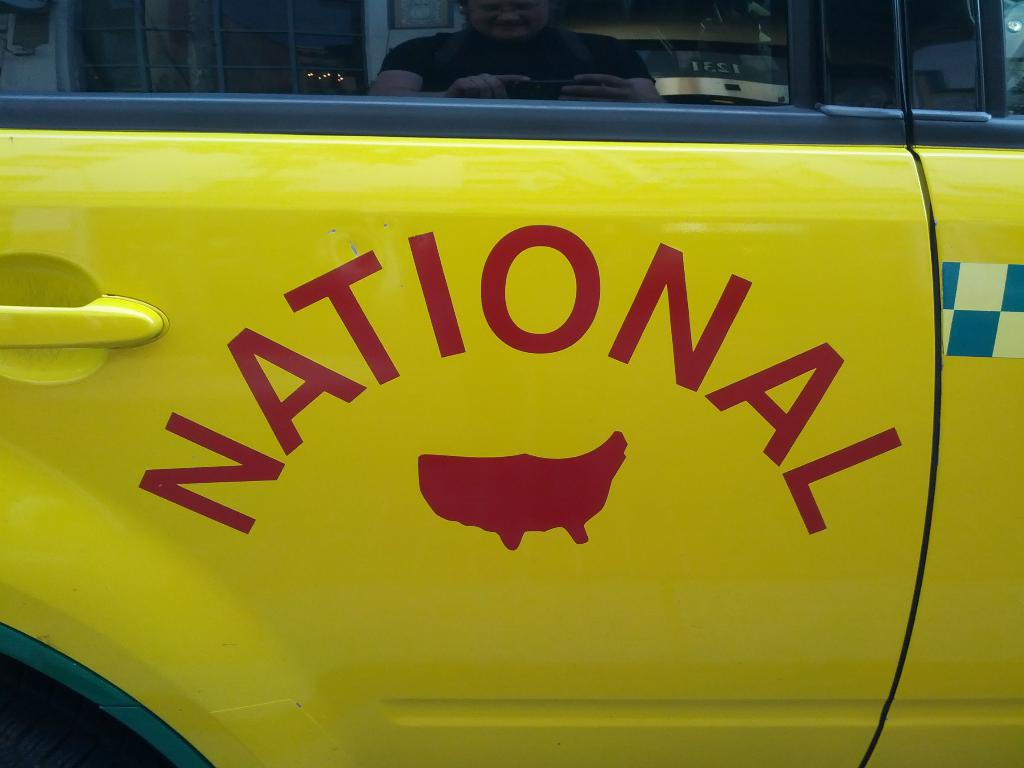taxi: (1, 2, 1024, 768)
